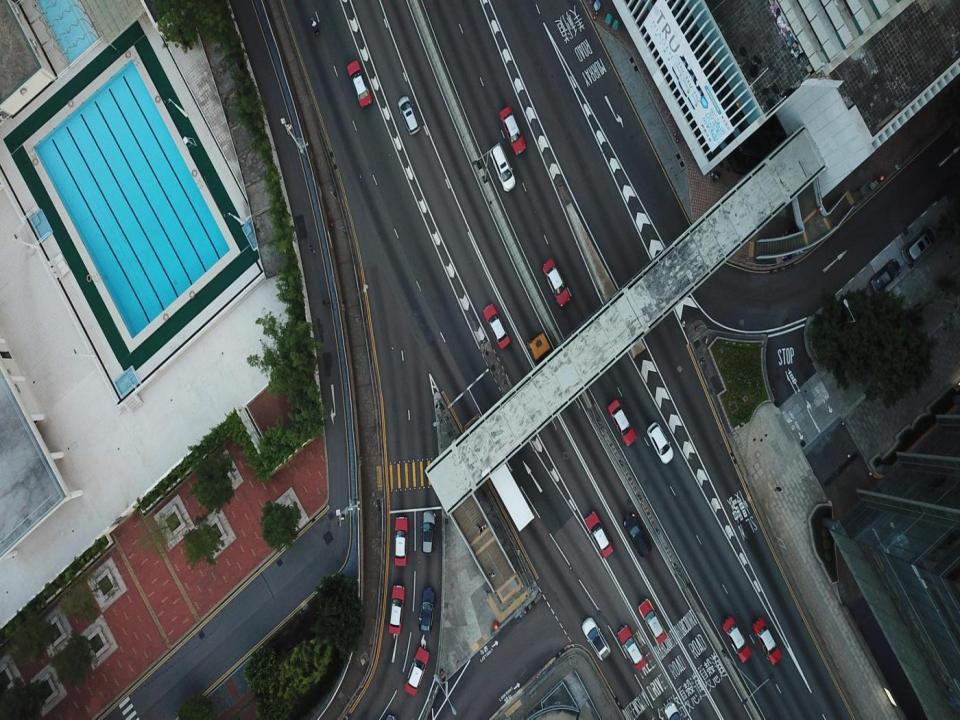bus: (464, 413, 534, 533)
car: (542, 259, 572, 307), (617, 624, 647, 672), (722, 615, 752, 663), (581, 616, 611, 662), (404, 646, 431, 697), (638, 598, 667, 645), (901, 226, 935, 266), (608, 399, 636, 447), (753, 617, 781, 665), (483, 303, 511, 350), (346, 60, 373, 108), (623, 512, 652, 556), (500, 106, 526, 155), (584, 512, 612, 557), (490, 143, 515, 191), (868, 259, 901, 295), (647, 421, 674, 464), (397, 95, 420, 135), (388, 585, 405, 635), (419, 588, 436, 635), (394, 517, 409, 566), (421, 510, 436, 555)
truck: (526, 330, 564, 402)
